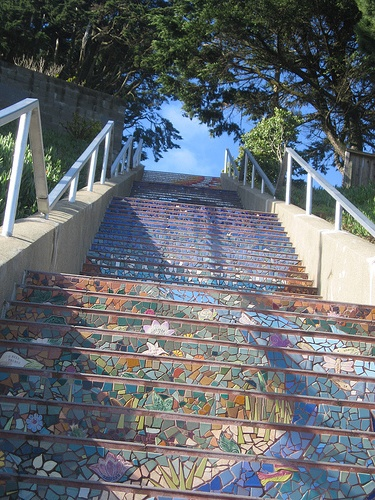stairs_up: (1, 170, 375, 500)
